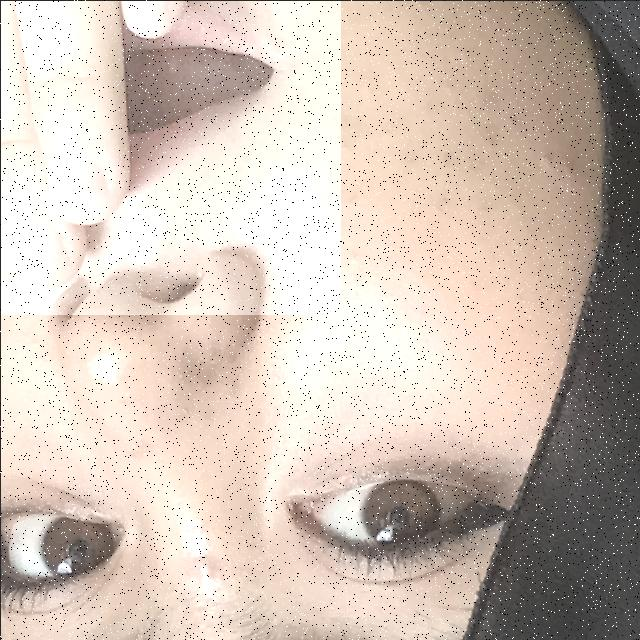ngantuk: (0, 0, 340, 314)
